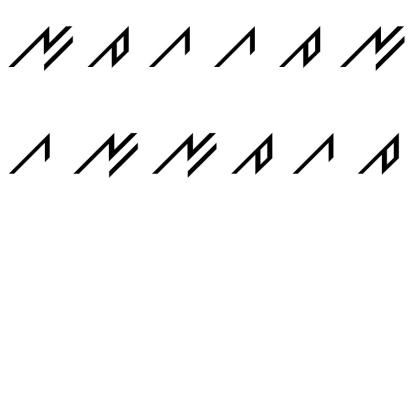ga: (292, 130, 340, 179), (143, 23, 193, 70), (7, 129, 55, 176), (211, 26, 260, 70)
nga: (338, 17, 407, 72), (71, 127, 141, 179), (152, 127, 222, 179), (9, 20, 76, 72)
ta: (226, 129, 278, 179), (275, 20, 325, 72), (357, 130, 403, 178), (87, 25, 131, 70)
